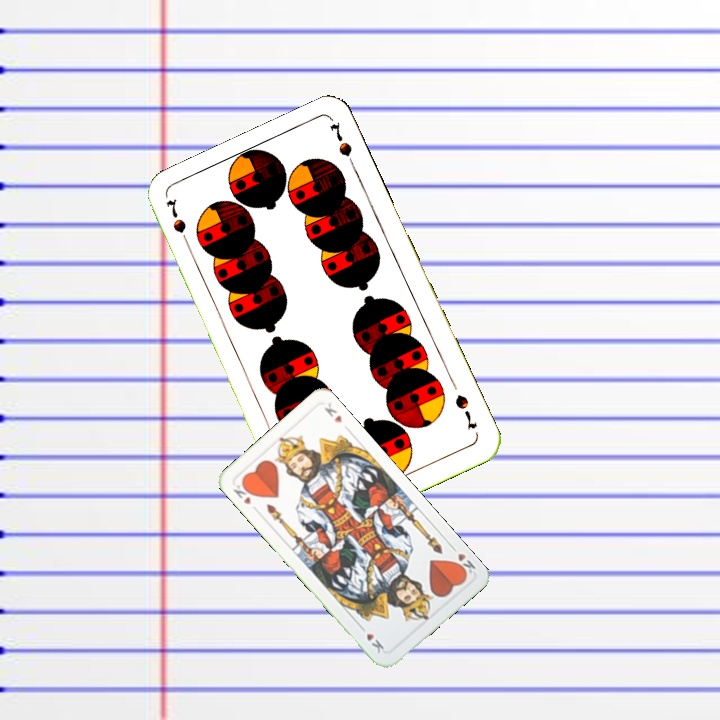HK: (446, 541, 478, 579), (229, 477, 256, 507)
S7: (162, 195, 193, 251), (451, 390, 480, 433)
